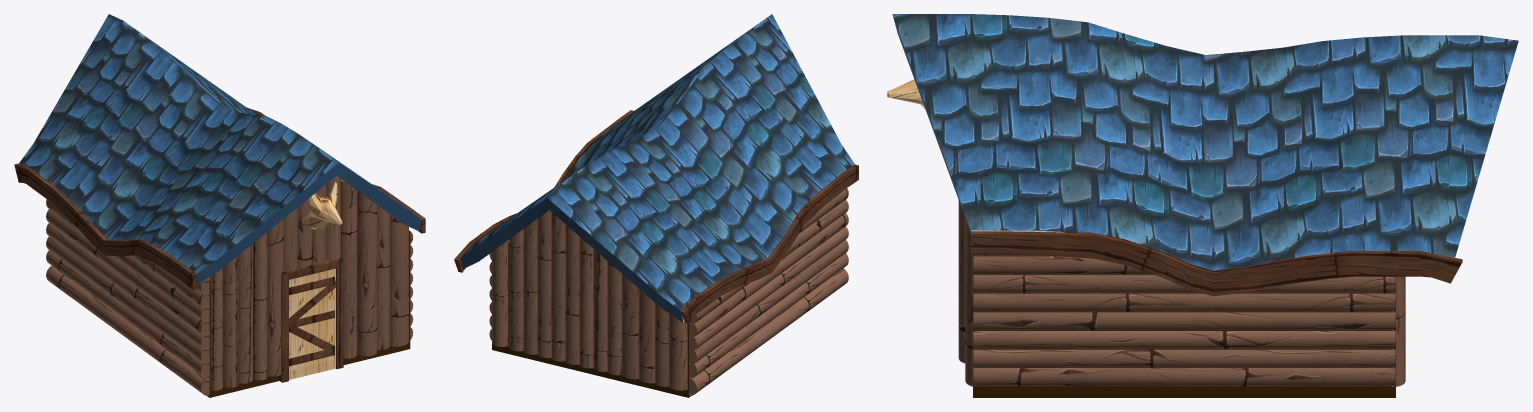
Rendered from house_wood.glb.
The picture shows the model from 3 angles, left to right: view 1: azimuth 30°, elevation 25°; view 2: azimuth 150°, elevation 25°; view 3: azimuth 270°, elevation 25°; orthographic projection. The views are drawn at different scales.
Visible parts, largest first — view 1: main_roof1.001_2, pCylinder324.001_3; view 2: main_roof1.001_2, pCylinder324.001_3; view 3: main_roof1.001_2, pCylinder324.001_3.
Boxes of the visible parts, <box> form: main_roof1.001_2: <box>14,14,425,289</box>; pCylinder324.001_3: <box>46,176,413,397</box>; main_roof1.001_2: <box>454,14,858,323</box>; pCylinder324.001_3: <box>489,85,848,397</box>; main_roof1.001_2: <box>892,14,1518,296</box>; pCylinder324.001_3: <box>887,79,1405,397</box>.
Bounding box in the file's own units: 4.9 × 4.67 × 8.44.
7 materials, 5 textured.
